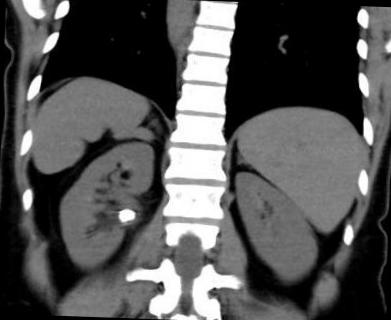Tas_Var: (115, 204, 136, 226)
